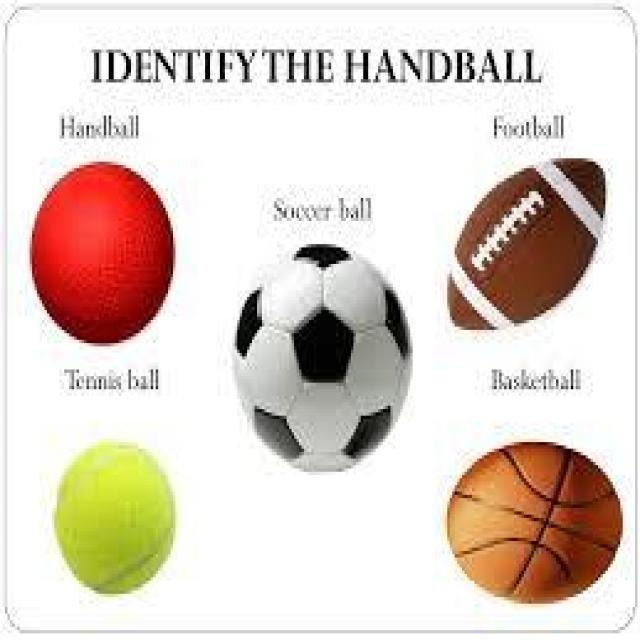Soccer Ball: (230, 244, 412, 475)
